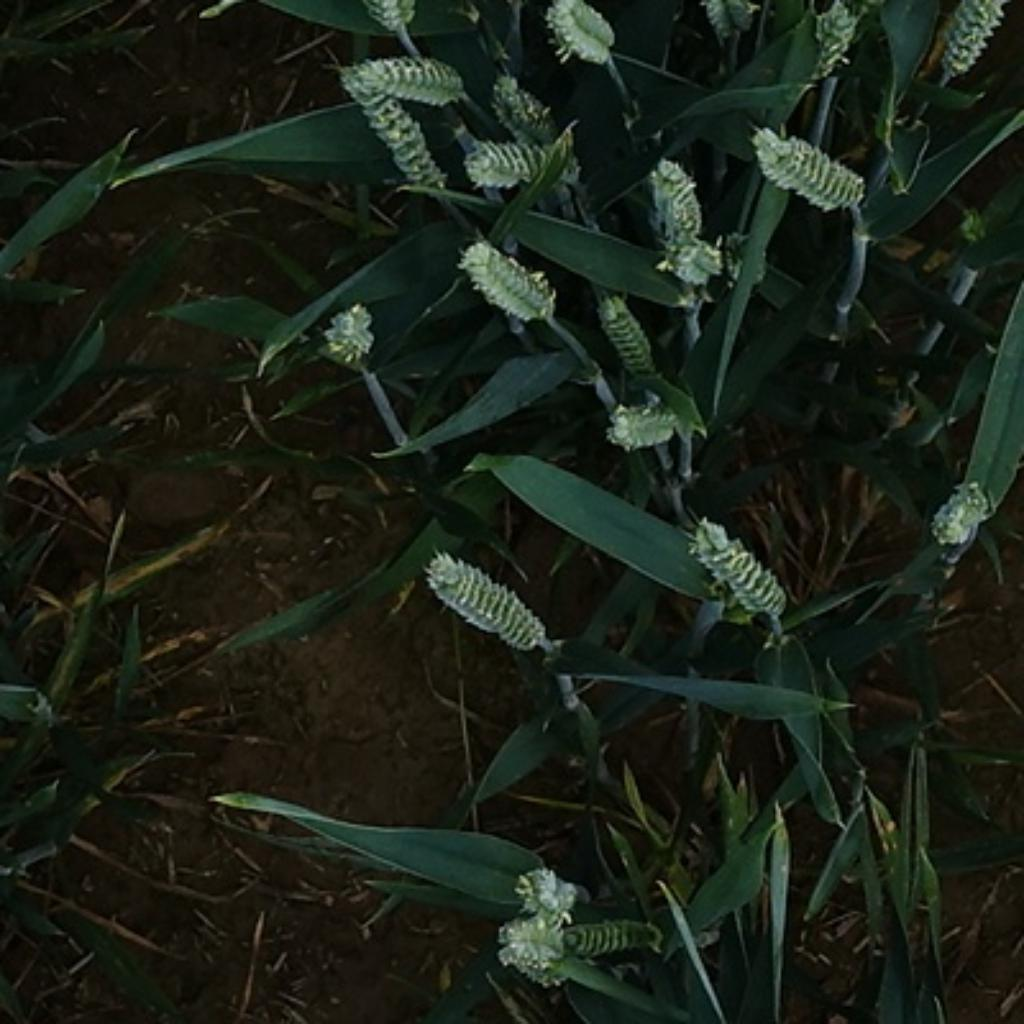0-0: (421, 549, 548, 658), (742, 112, 870, 215), (682, 517, 793, 622), (445, 230, 560, 325), (355, 81, 458, 184), (634, 133, 701, 273), (453, 122, 578, 197), (330, 48, 471, 110), (926, 2, 1016, 87), (491, 896, 576, 985), (583, 289, 665, 376), (796, 2, 855, 97), (599, 394, 693, 450), (478, 69, 560, 133), (549, 2, 619, 66), (670, 227, 727, 299), (932, 481, 991, 549), (514, 860, 578, 919), (321, 297, 382, 357), (558, 920, 656, 957), (949, 205, 1000, 258)
